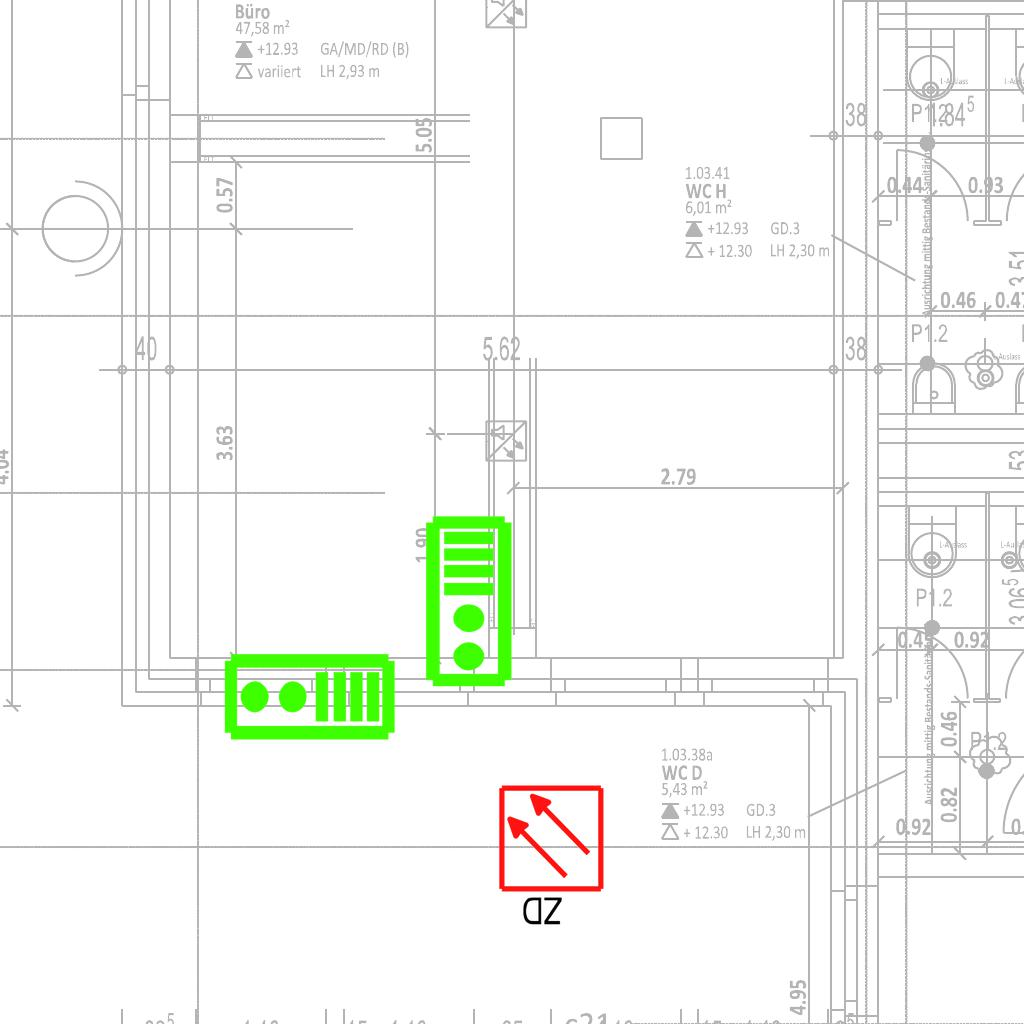Gegensprechanlage_mit_Video: (221, 651, 397, 746), (423, 514, 518, 690)
ZD_Melder_in_Zwischendecke_mit_Revisionsoeffnung_mind_40_x_40_cm: (496, 783, 610, 932)
